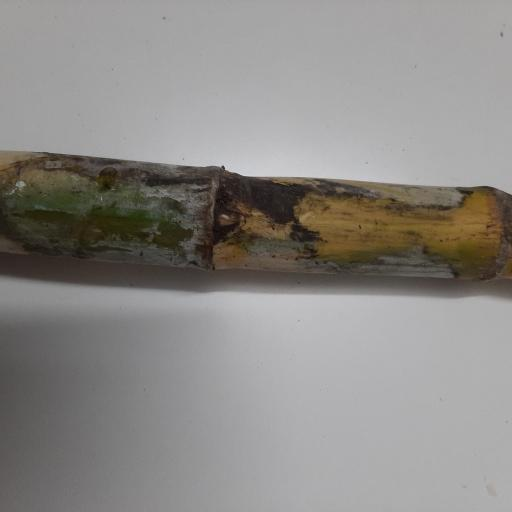Bud: (215, 212, 236, 226)
